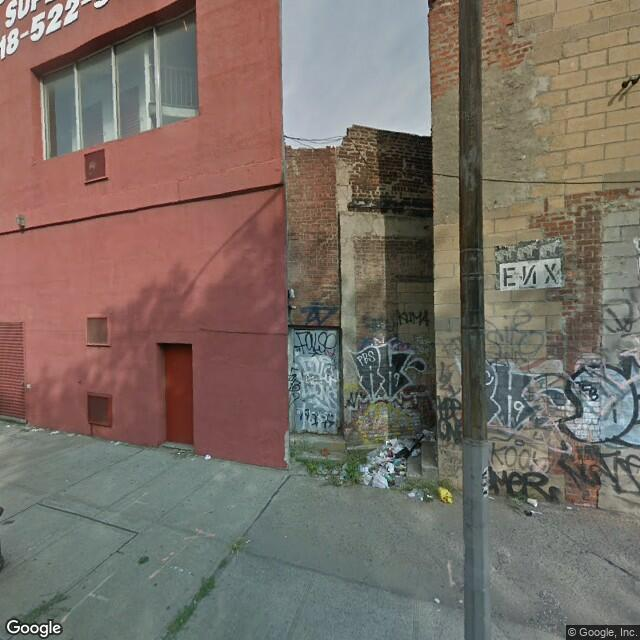litter: (354, 427, 430, 498), (437, 480, 458, 512)
